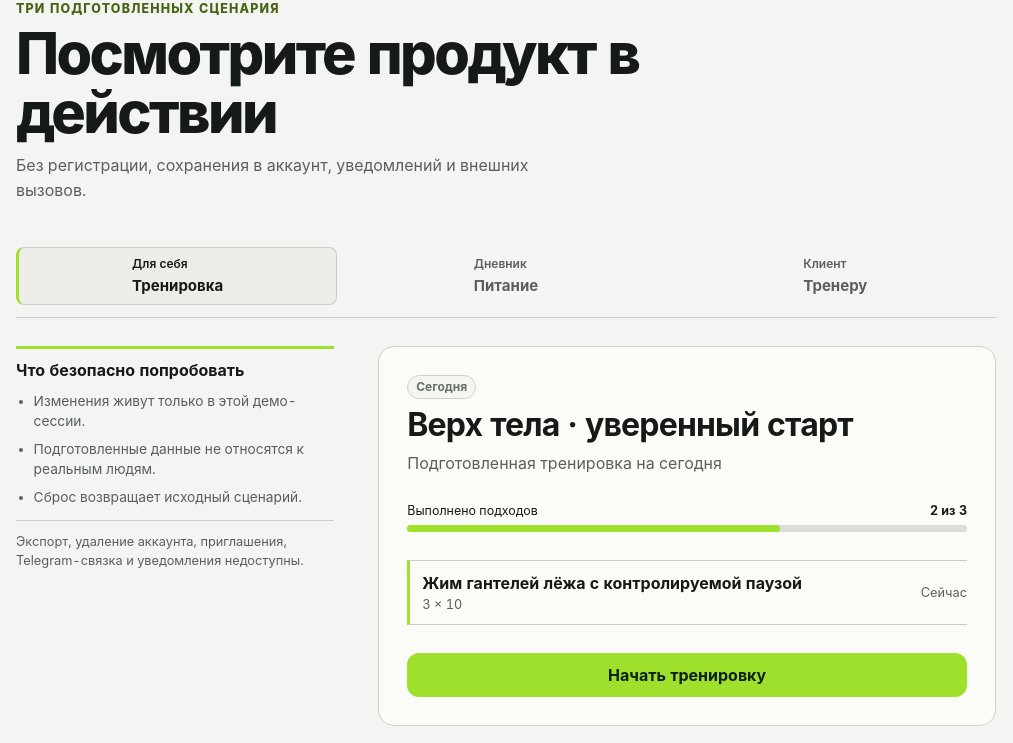
Test: DemoPage › keeps a persistent demo boundary and runs the prepared training action
The image size is (1013, 743).
(page scrolled)
Expected: the list item "Подготовленные данные не относятся к реальным людям." is shown, x1=34 y1=440 x2=334 y2=480
Click the button "Начать тренировку": {"x": 687, "y": 675} x1=407 y1=653 x2=967 y2=697
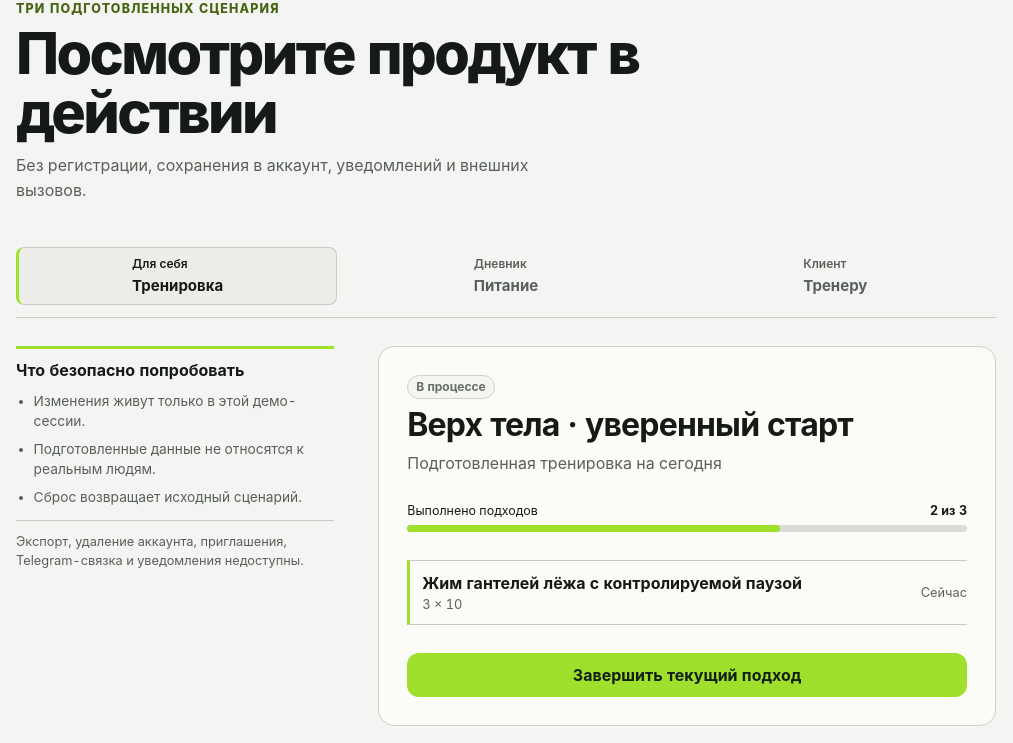
Expected: the button "Завершить текущий подход" is shown, x1=407 y1=653 x2=967 y2=697
